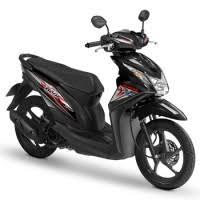motorcycle: (5, 8, 195, 191)
